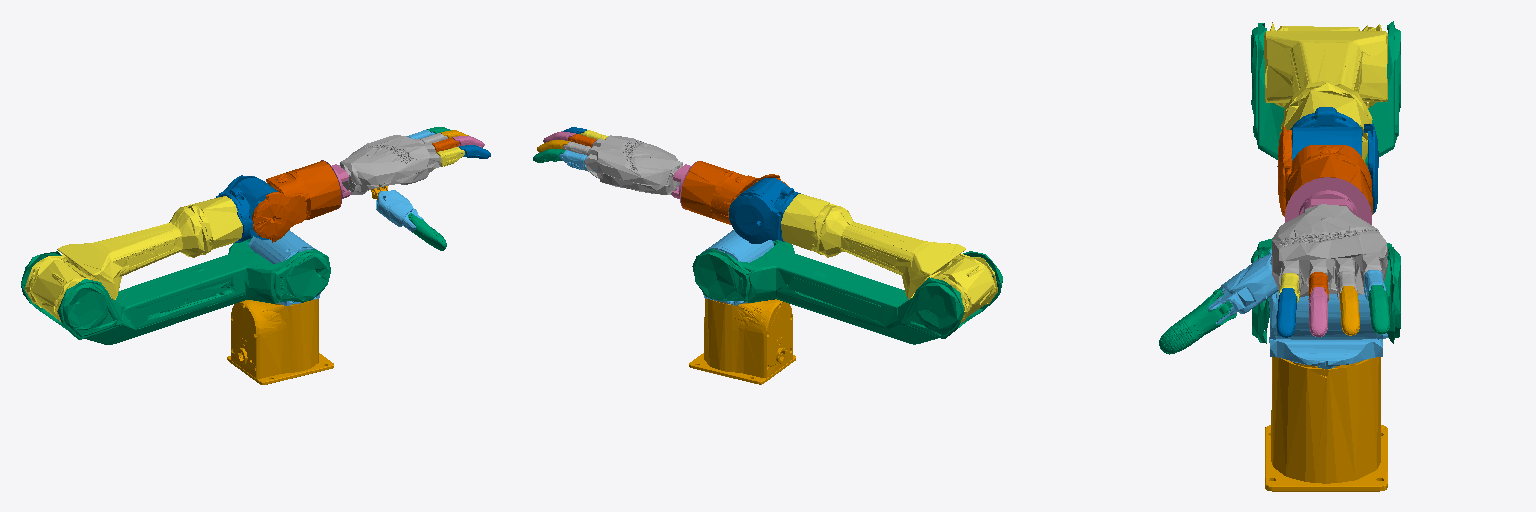
The robot description file, URDF, robot "piper_linkerhand_o6_left":
<?xml version="1.0"?>
<!-- 由 sim/piper_linker/tools/sync_viewer_urdf.py 从 MJCF（scene.xml + piper/piper.xml）生成，请勿手改 -->
<robot name="piper_linkerhand_o6_left">
  <link name="base_link">
    <visual>
      <origin xyz="0 0 0" rpy="0 0 0"/>
      <geometry>
        <mesh filename="meshes/base_link.stl"/>
      </geometry>
    </visual>
  </link>
  <link name="link1">
    <visual>
      <origin xyz="0 0 0" rpy="0 0 0"/>
      <geometry>
        <mesh filename="meshes/link1.stl"/>
      </geometry>
    </visual>
  </link>
  <link name="link2">
    <visual>
      <origin xyz="0 0 0" rpy="0 0 0"/>
      <geometry>
        <mesh filename="meshes/link2.stl"/>
      </geometry>
    </visual>
  </link>
  <link name="link3">
    <visual>
      <origin xyz="0 0 0" rpy="0 0 0"/>
      <geometry>
        <mesh filename="meshes/link3.stl"/>
      </geometry>
    </visual>
  </link>
  <link name="link4">
    <visual>
      <origin xyz="0 0 0" rpy="0 0 0"/>
      <geometry>
        <mesh filename="meshes/link4.stl"/>
      </geometry>
    </visual>
  </link>
  <link name="link5">
    <visual>
      <origin xyz="0 0 0" rpy="0 0 0"/>
      <geometry>
        <mesh filename="meshes/link5.stl"/>
      </geometry>
    </visual>
  </link>
  <link name="link6">
    <visual>
      <origin xyz="0 0 0" rpy="0 0 1.5708"/>
      <geometry>
        <mesh filename="meshes/link6_trimmed.stl"/>
      </geometry>
    </visual>
    <visual>
      <origin xyz="0 0 0" rpy="0 0 0"/>
      <geometry>
        <mesh filename="meshes/adapter.stl"/>
      </geometry>
    </visual>
  </link>
  <link name="lh_hand_base_link">
    <visual>
      <origin xyz="0 0 0" rpy="0 0 0"/>
      <geometry>
        <mesh filename="meshes/hand_base_link.stl"/>
      </geometry>
    </visual>
  </link>
  <link name="lh_thumb_metacarpals_base2">
    <visual>
      <origin xyz="0 0 0" rpy="0 0 0"/>
      <geometry>
        <mesh filename="meshes/thumb_metacarpals_base2.stl"/>
      </geometry>
    </visual>
  </link>
  <link name="lh_thumb_metacarpals">
    <visual>
      <origin xyz="0 0 0" rpy="0 0 0"/>
      <geometry>
        <mesh filename="meshes/thumb_metacarpals.stl"/>
      </geometry>
    </visual>
  </link>
  <link name="lh_thumb_distal">
    <visual>
      <origin xyz="0 0 0" rpy="0 0 0"/>
      <geometry>
        <mesh filename="meshes/thumb_distal.stl"/>
      </geometry>
    </visual>
  </link>
  <link name="lh_index_proximal">
    <visual>
      <origin xyz="0 0 0" rpy="0 0 0"/>
      <geometry>
        <mesh filename="meshes/index_proximal.stl"/>
      </geometry>
    </visual>
  </link>
  <link name="lh_index_distal">
    <visual>
      <origin xyz="0 0 0" rpy="0 0 0"/>
      <geometry>
        <mesh filename="meshes/index_distal.stl"/>
      </geometry>
    </visual>
  </link>
  <link name="lh_middle_proximal">
    <visual>
      <origin xyz="0 0 0" rpy="0 0 0"/>
      <geometry>
        <mesh filename="meshes/middle_proximal.stl"/>
      </geometry>
    </visual>
  </link>
  <link name="lh_middle_distal">
    <visual>
      <origin xyz="0 0 0" rpy="0 0 0"/>
      <geometry>
        <mesh filename="meshes/middle_distal.stl"/>
      </geometry>
    </visual>
  </link>
  <link name="lh_ring_proximal">
    <visual>
      <origin xyz="0 0 0" rpy="0 0 0"/>
      <geometry>
        <mesh filename="meshes/ring_proximal.stl"/>
      </geometry>
    </visual>
  </link>
  <link name="lh_ring_distal">
    <visual>
      <origin xyz="0 0 0" rpy="0 0 0"/>
      <geometry>
        <mesh filename="meshes/ring_distal.stl"/>
      </geometry>
    </visual>
  </link>
  <link name="lh_pinky_proximal">
    <visual>
      <origin xyz="0 0 0" rpy="0 0 0"/>
      <geometry>
        <mesh filename="meshes/pinky_proximal.stl"/>
      </geometry>
    </visual>
  </link>
  <link name="lh_pinky_distal">
    <visual>
      <origin xyz="0 0 0" rpy="0 0 0"/>
      <geometry>
        <mesh filename="meshes/pinky_distal.stl"/>
      </geometry>
    </visual>
  </link>
  <joint name="joint1" type="revolute">
    <origin xyz="0 0 0.123" rpy="0 0 -1.5708"/>
    <parent link="base_link"/>
    <child link="link1"/>
    <axis xyz="0 0 1"/>
    <limit lower="-2.618" upper="2.618" effort="100" velocity="5"/>
  </joint>
  <joint name="joint2" type="revolute">
    <origin xyz="0 0 0" rpy="1.5708 8.00005e-12 -1.5708"/>
    <parent link="link1"/>
    <child link="link2"/>
    <axis xyz="0 0 1"/>
    <limit lower="0" upper="3.14" effort="100" velocity="5"/>
  </joint>
  <joint name="joint3" type="revolute">
    <origin xyz="0.28358 0.028726 0" rpy="0 0 0.10095"/>
    <parent link="link2"/>
    <child link="link3"/>
    <axis xyz="0 0 1"/>
    <limit lower="-2.697" upper="0" effort="100" velocity="5"/>
  </joint>
  <joint name="joint4" type="revolute">
    <origin xyz="-0.24221 0.068514 0" rpy="-1.5708 7.13697e-07 1.3826"/>
    <parent link="link3"/>
    <child link="link4"/>
    <axis xyz="0 0 1"/>
    <limit lower="-1.832" upper="1.832" effort="100" velocity="5"/>
  </joint>
  <joint name="joint5" type="revolute">
    <origin xyz="0 0 0" rpy="1.5708 0 0"/>
    <parent link="link4"/>
    <child link="link5"/>
    <axis xyz="0 0 1"/>
    <limit lower="-1.22" upper="1.22" effort="100" velocity="5"/>
  </joint>
  <joint name="joint6" type="revolute">
    <origin xyz="0 0.091 0.0014165" rpy="1.57079 0 -3.14159"/>
    <parent link="link5"/>
    <child link="link6"/>
    <axis xyz="0 0 1"/>
    <limit lower="-3.14" upper="3.14" effort="100" velocity="5"/>
  </joint>
  <joint name="lh_adapter_joint" type="fixed">
    <origin xyz="0 0 0.0175" rpy="0 0 0"/>
    <parent link="link6"/>
    <child link="lh_hand_base_link"/>
  </joint>
  <joint name="lh_thumb_cmc_yaw" type="revolute">
    <origin xyz="0.011508 -0.022975 0.032794" rpy="0 0 0"/>
    <parent link="lh_hand_base_link"/>
    <child link="lh_thumb_metacarpals_base2"/>
    <axis xyz="0 0 1"/>
    <limit lower="0" upper="1.3" effort="100" velocity="5"/>
  </joint>
  <joint name="lh_thumb_cmc_pitch" type="revolute">
    <origin xyz="0.0061649 -0.010678 -0.004891" rpy="2.97362e-06 -1.1529 2.0944"/>
    <parent link="lh_thumb_metacarpals_base2"/>
    <child link="lh_thumb_metacarpals"/>
    <axis xyz="0 1 0"/>
    <limit lower="0" upper="0.58" effort="100" velocity="5"/>
  </joint>
  <joint name="lh_thumb_ip" type="revolute">
    <origin xyz="0.0037776 0 0.045368" rpy="0 0 0"/>
    <parent link="lh_thumb_metacarpals"/>
    <child link="lh_thumb_distal"/>
    <axis xyz="0 1 0"/>
    <limit lower="0" upper="1.3282" effort="100" velocity="5"/>
  </joint>
  <joint name="lh_index_mcp_pitch" type="revolute">
    <origin xyz="0.0024758 -0.02419 0.098779" rpy="0.05236 0 0"/>
    <parent link="lh_hand_base_link"/>
    <child link="lh_index_proximal"/>
    <axis xyz="0 1 0"/>
    <limit lower="0" upper="1.6" effort="100" velocity="5"/>
  </joint>
  <joint name="lh_index_dip" type="revolute">
    <origin xyz="-0.0052516 0 0.036625" rpy="0 0 0"/>
    <parent link="lh_index_proximal"/>
    <child link="lh_index_distal"/>
    <axis xyz="0 1 0"/>
    <limit lower="0" upper="1.424" effort="100" velocity="5"/>
  </joint>
  <joint name="lh_middle_mcp_pitch" type="revolute">
    <origin xyz="0.00052576 -0.00634 0.1027" rpy="0 0 0"/>
    <parent link="lh_hand_base_link"/>
    <child link="lh_middle_proximal"/>
    <axis xyz="0 1 0"/>
    <limit lower="0" upper="1.6" effort="100" velocity="5"/>
  </joint>
  <joint name="lh_middle_dip" type="revolute">
    <origin xyz="-0.0052516 0 0.036625" rpy="0 0 0"/>
    <parent link="lh_middle_proximal"/>
    <child link="lh_middle_distal"/>
    <axis xyz="0 1 0"/>
    <limit lower="0" upper="1.424" effort="100" velocity="5"/>
  </joint>
  <joint name="lh_ring_mcp_pitch" type="revolute">
    <origin xyz="0.0010258 0.011135 0.098767" rpy="-0.05236 0 0"/>
    <parent link="lh_hand_base_link"/>
    <child link="lh_ring_proximal"/>
    <axis xyz="0 1 0"/>
    <limit lower="0" upper="1.6" effort="100" velocity="5"/>
  </joint>
  <joint name="lh_ring_dip" type="revolute">
    <origin xyz="-0.0052516 0 0.036625" rpy="0 0 0"/>
    <parent link="lh_ring_proximal"/>
    <child link="lh_ring_distal"/>
    <axis xyz="0 1 0"/>
    <limit lower="0" upper="1.424" effort="100" velocity="5"/>
  </joint>
  <joint name="lh_pinky_mcp_pitch" type="revolute">
    <origin xyz="0.0024758 0.028372 0.092741" rpy="-0.0872661 0 0"/>
    <parent link="lh_hand_base_link"/>
    <child link="lh_pinky_proximal"/>
    <axis xyz="0 1 0"/>
    <limit lower="0" upper="1.6" effort="100" velocity="5"/>
  </joint>
  <joint name="lh_pinky_dip" type="revolute">
    <origin xyz="-0.0052516 0 0.036625" rpy="0 0 0"/>
    <parent link="lh_pinky_proximal"/>
    <child link="lh_pinky_distal"/>
    <axis xyz="0 1 0"/>
    <limit lower="0" upper="1.424" effort="100" velocity="5"/>
  </joint>
</robot>

--- What the picture shows (computed from the rendered views, not written in the file) ---
3 views of the same robot in one strip: view 1: azimuth 30°, elevation 25°; view 2: azimuth 150°, elevation 25°; view 3: azimuth 270°, elevation 25° (orthographic).
Model piper_linkerhand_o6_left with 19 links and 18 joints (17 revolute, 1 fixed), rooted at base_link, posed every joint at zero.
Visible links, largest first — view 1: link2, link3, base_link, link5, lh_hand_base_link, link4, link1, lh_thumb_metacarpals, lh_thumb_distal; view 2: link2, link3, base_link, lh_hand_base_link, link4, link5, link1; view 3: base_link, link3, lh_hand_base_link, link2, link1, link5, link4, link6, lh_thumb_metacarpals, lh_thumb_distal, lh_middle_distal, lh_pinky_distal (+2 smaller).
Boxes of the visible links, x1,y1,x2,y2 form: link2: (21,236,330,344); link3: (25,196,242,321); base_link: (227,299,333,384); link5: (252,161,340,242); lh_hand_base_link: (339,135,440,194); link4: (216,175,277,242); link1: (248,230,320,305); lh_thumb_metacarpals: (376,190,423,232); lh_thumb_distal: (408,213,446,250); link2: (692,240,1002,344); link3: (781,194,997,323); base_link: (689,298,795,384); lh_hand_base_link: (583,135,682,194); link4: (729,178,800,243); link5: (681,161,788,224); link1: (702,230,773,305); base_link: (1265,357,1387,491); link3: (1264,22,1387,161); lh_hand_base_link: (1271,204,1387,297); link2: (1251,21,1400,343); link1: (1269,249,1388,368); link5: (1277,127,1372,216); link4: (1290,107,1378,213); link6: (1285,177,1371,224); lh_thumb_metacarpals: (1208,254,1278,323); lh_thumb_distal: (1159,288,1236,354); lh_middle_distal: (1309,287,1327,336); lh_pinky_distal: (1368,285,1389,334).
Bounding box of the posed robot: 0.5651 × 0.1577 × 0.2319 m (x, y, z).
Meshes: 20 distinct files referenced, 20 mesh visuals loaded (20 binary STL).
